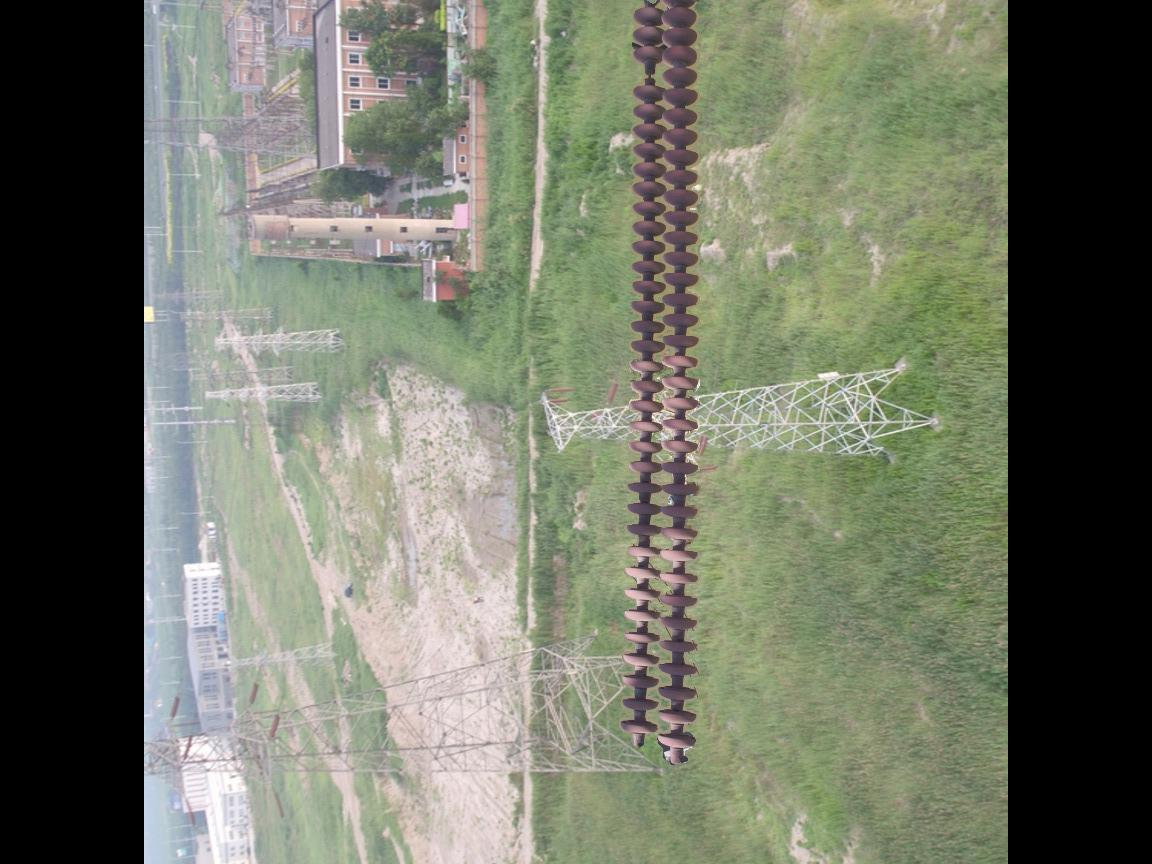insulator: (617, 1, 707, 766)
insulator_stringdrop: (629, 41, 667, 105)
